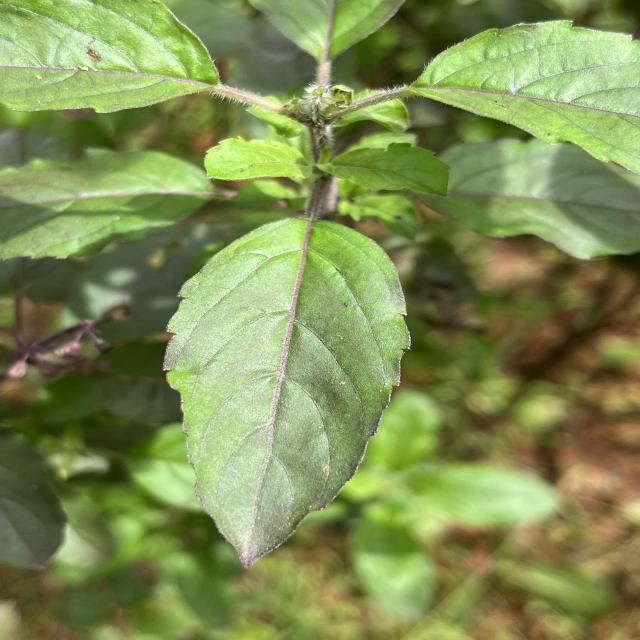Ocimum tenuiflorum: (158, 212, 415, 574)
